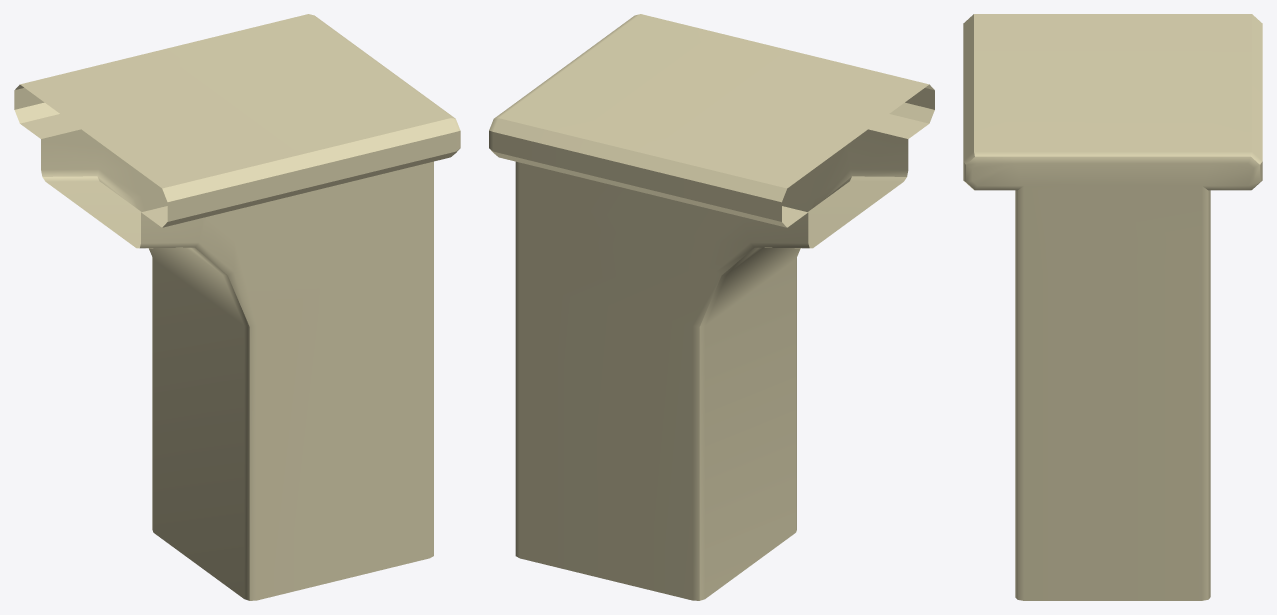
The model's file is Barrière_Fin.fbx.
3 renders of one model, left to right at view 1: azimuth 30°, elevation 25°; view 2: azimuth 150°, elevation 25°; view 3: azimuth 270°, elevation 25°, orthographic. The views are drawn at different scales.
Parts seen in each view (by area): view 1: bout_de_barriere_pCube9; view 2: bout_de_barriere_pCube9; view 3: bout_de_barriere_pCube9.
Part boxes in pixels (x1,y1,x2,y2): bout_de_barriere_pCube9: [14, 14, 460, 600]; bout_de_barriere_pCube9: [489, 14, 934, 600]; bout_de_barriere_pCube9: [963, 14, 1262, 600].
Bounding box in the file's own units: 9.91 × 14.56 × 8.86.
